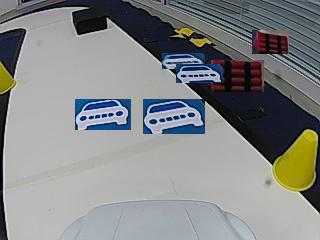block: (71, 7, 108, 35)
cone: (273, 131, 318, 190), (0, 59, 16, 94)
